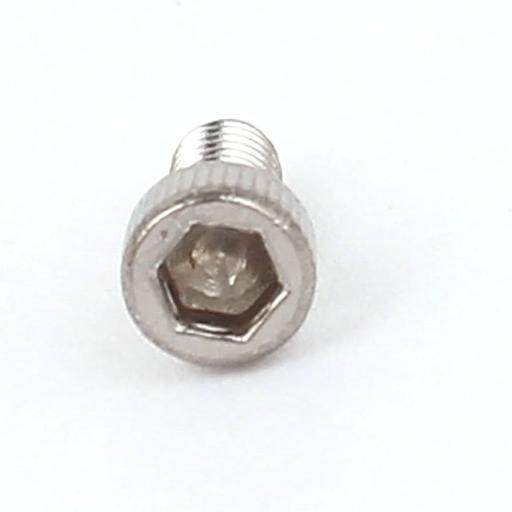Hex-Allen: (119, 162, 315, 370)
